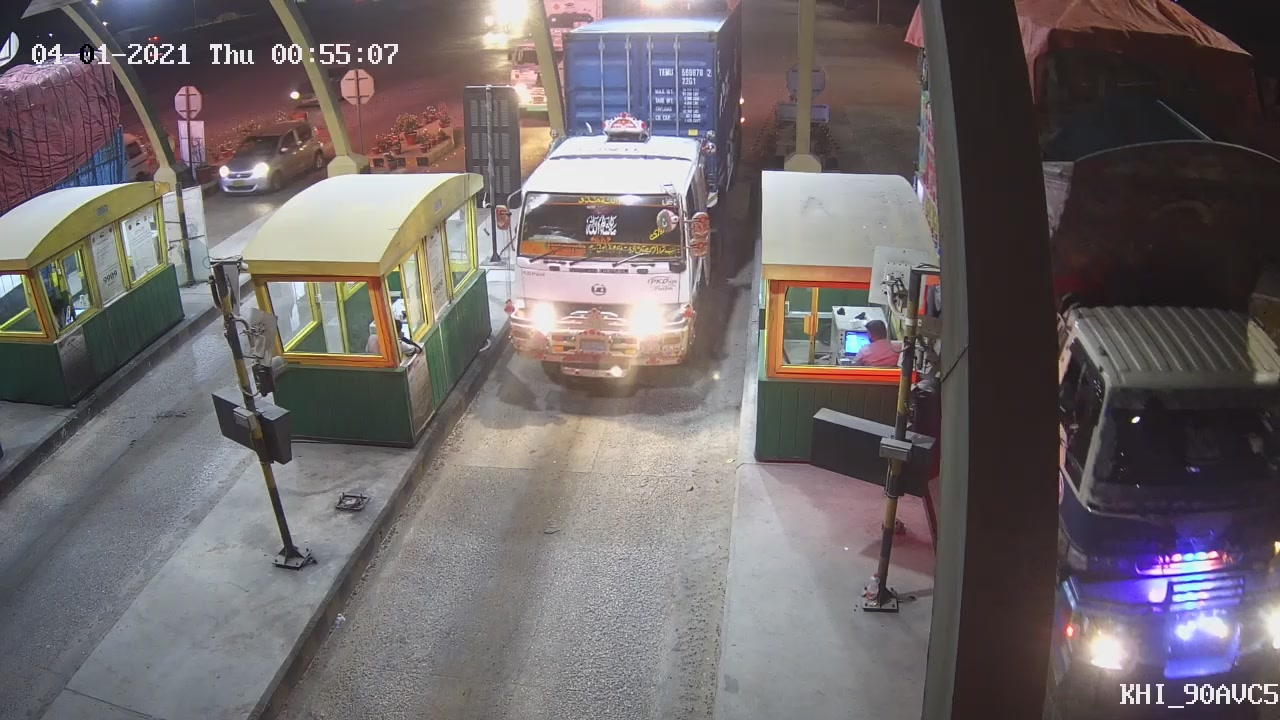F6: (493, 1, 751, 393)
